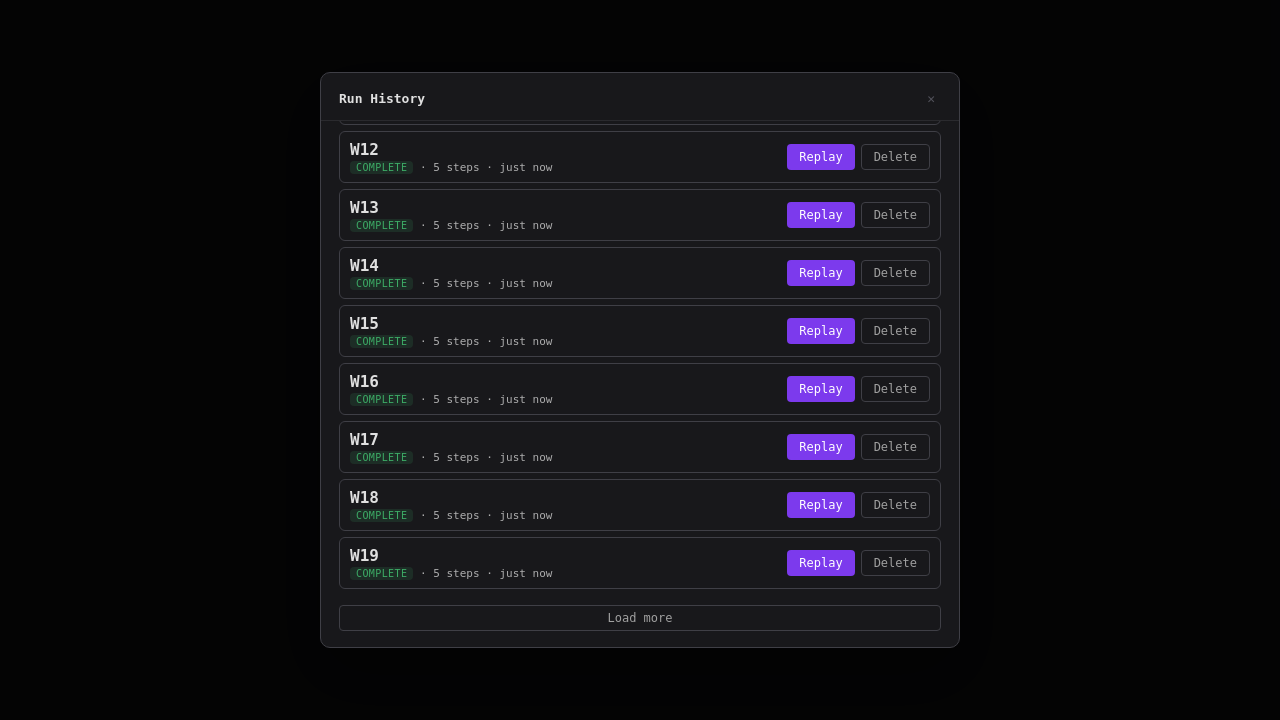
Scenario: RunHistoryModal › offers "Load more" only when a full page came back, and appends
(page scrolled)
Click the button "Load more".
click(640, 618)  # box [339,605,941,631]
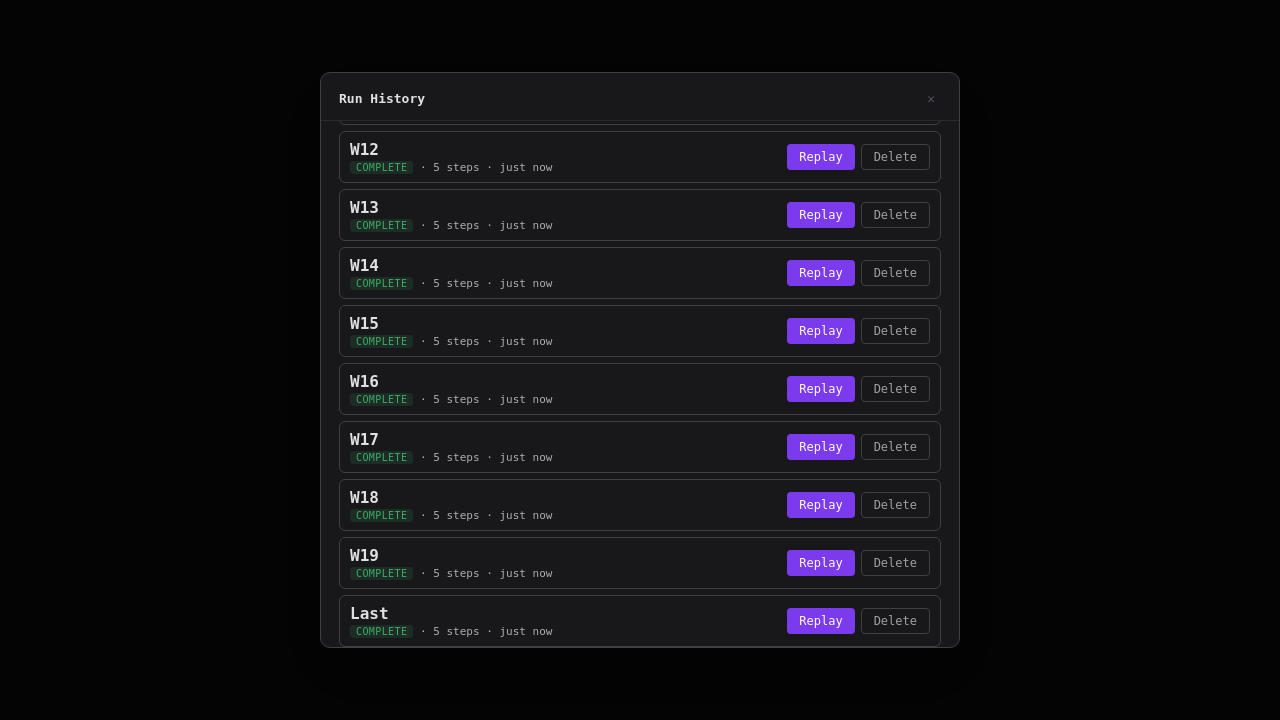
Result: the text "Last" is shown at [350,604,388,623]
Result: the button "Load more" is gone
